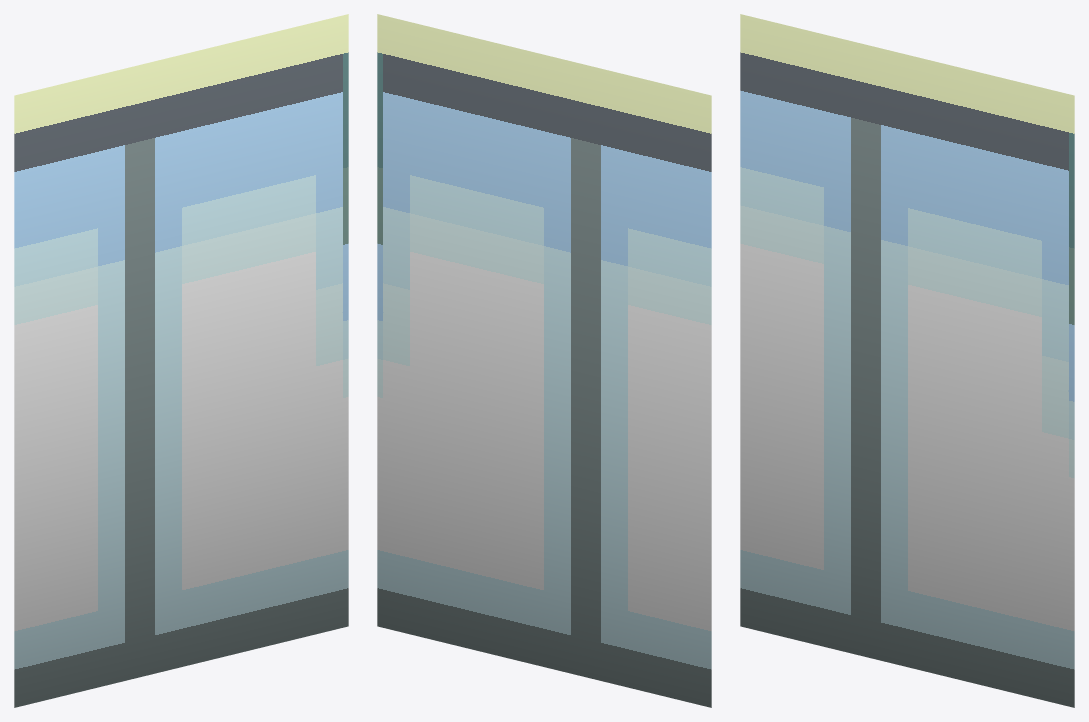
3 views of the same model, side by side, from view 1: azimuth 30°, elevation 25°; view 2: azimuth 150°, elevation 25°; view 3: azimuth 330°, elevation 25° (orthographic).
Bounding box in the file's own units: 1 × 1.75 × 0.
Materials: 1 (1 with a texture image).
